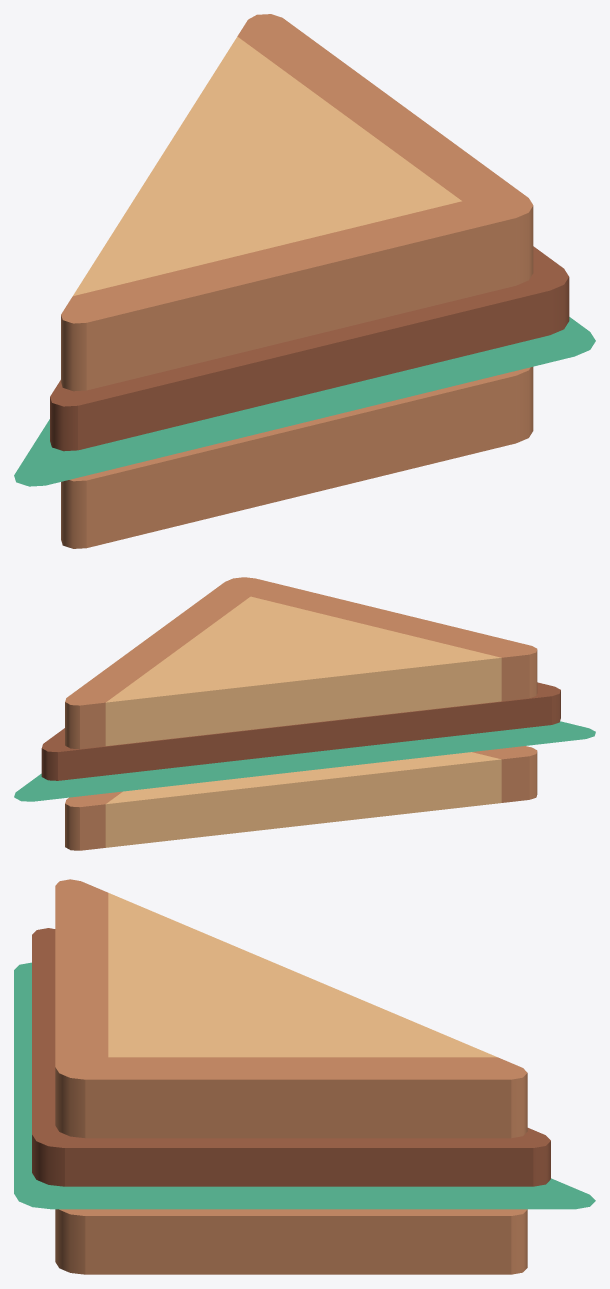
Rendered from sandwich.obj.
3 renders of one model, top to bottom at view 1: azimuth 30°, elevation 25°; view 2: azimuth 150°, elevation 25°; view 3: azimuth 270°, elevation 25°, orthographic. The views are drawn at different scales.
Visible parts, largest first — view 1: sandwich, meat, lettuce; view 2: sandwich, meat, lettuce; view 3: sandwich, meat, lettuce.
Part boxes in pixels (bbox=[...]): sandwich: bbox=[61, 14, 533, 548]; meat: bbox=[50, 246, 569, 451]; lettuce: bbox=[14, 317, 595, 486]; sandwich: bbox=[65, 577, 537, 850]; meat: bbox=[41, 682, 560, 780]; lettuce: bbox=[14, 721, 595, 801]; sandwich: bbox=[55, 879, 527, 1274]; meat: bbox=[32, 928, 550, 1186]; lettuce: bbox=[14, 962, 595, 1209].
Bounding box in the file's own units: 0.4339 × 0.1598 × 0.4323.
